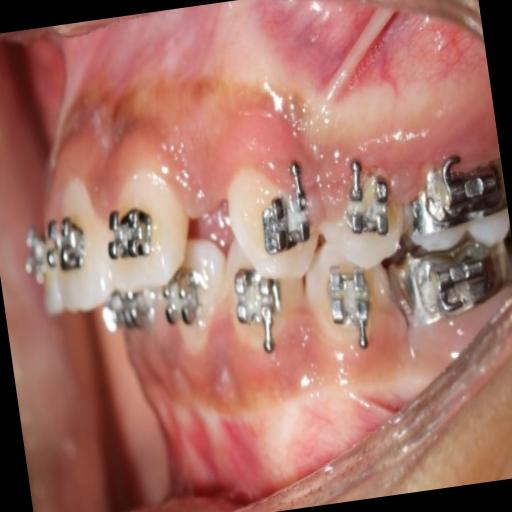correct_brace: (315, 166, 411, 274), (100, 195, 164, 268), (255, 186, 316, 256), (42, 212, 88, 275)
incorrect_brace: (94, 164, 198, 296), (342, 164, 396, 238)
